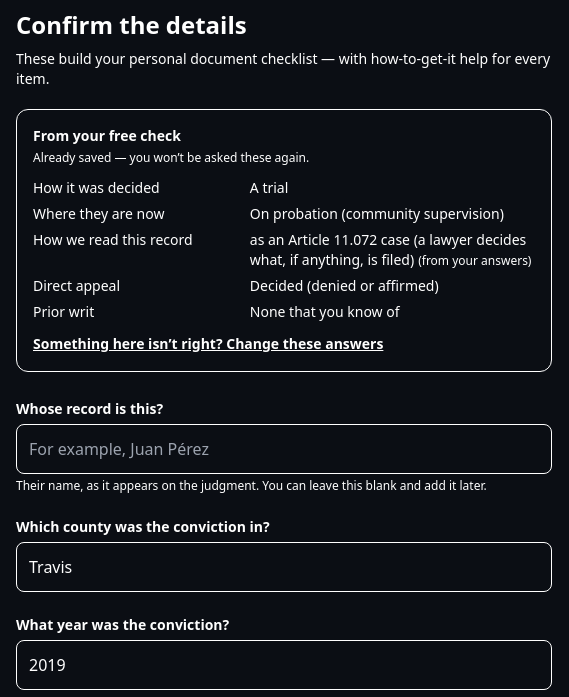
Scenario: interview › while collecting documents the shaping answers can be changed — the writ answer PATCHes and the card updates (PO, 2026-09-12)
The width and height of the screenshot is (569, 697).
Expected: the element with test id "known-facts" is shown, [16,109,552,372]
Click the button with test id "change-answers". click: {"x": 208, "y": 344}
box: [33,334,383,354]
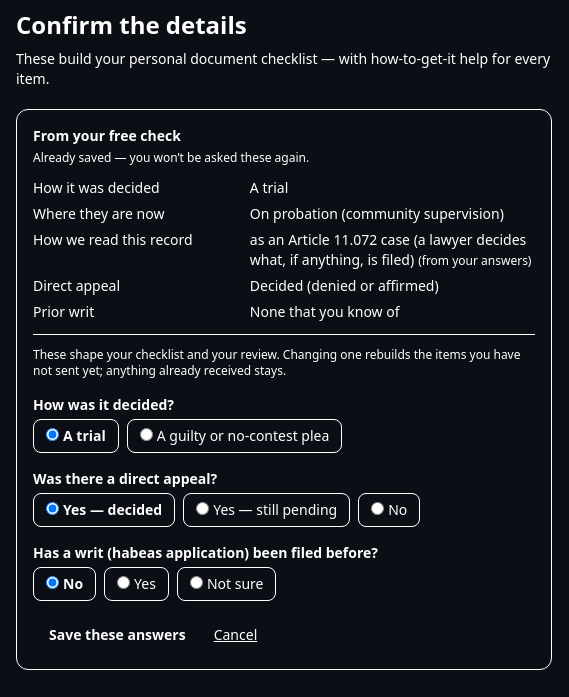
Click the radio button labelled "Yes". click: {"x": 124, "y": 582}
box: [117,576,130,589]
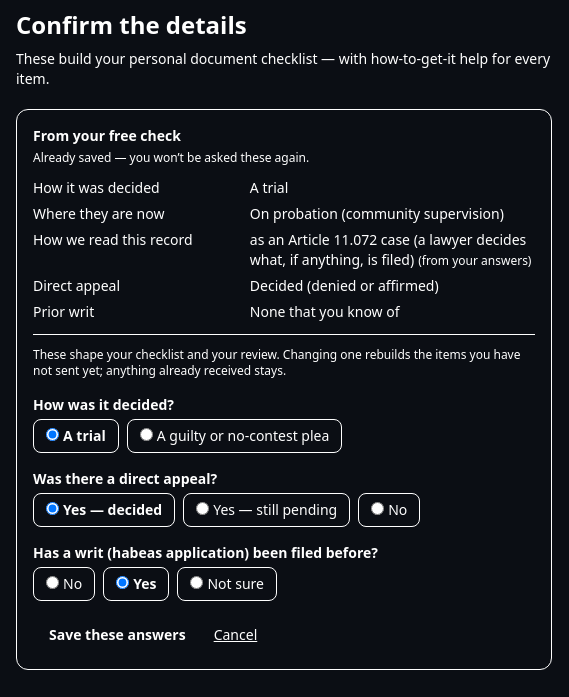
Click the button with test id "save-answers". click: {"x": 117, "y": 635}
box: [33,617,202,653]
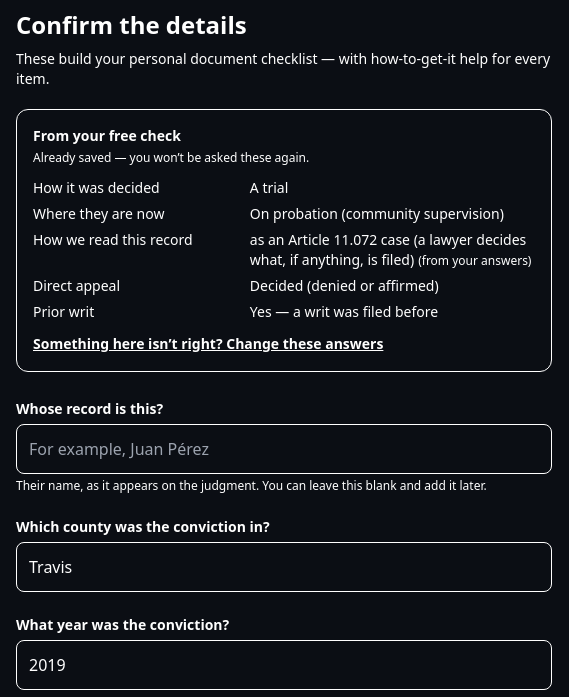
Result: the text "Yes — a writ was filed before" is shown at [250,302,438,321]
Result: the element with test id "change-answers-form" is gone
